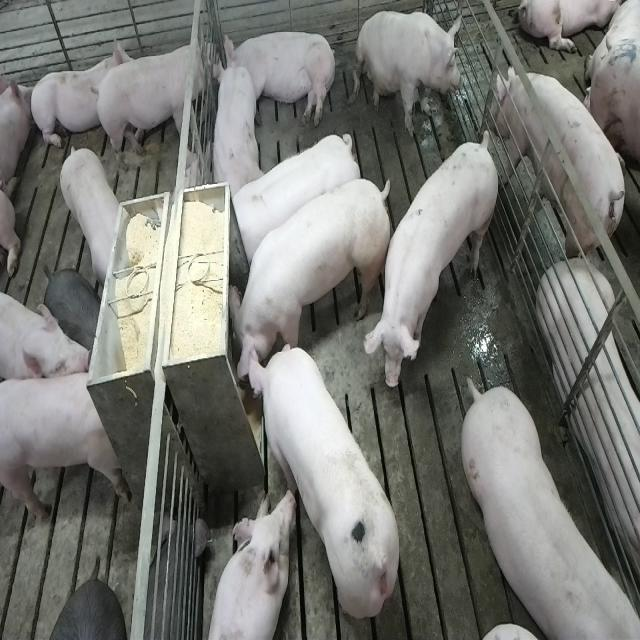Feeding: (244, 339, 402, 622), (222, 174, 390, 395)
Lateral_lying: (220, 28, 338, 128)
Sitting: (354, 7, 462, 137)
Standing: (464, 381, 640, 639), (367, 132, 503, 396), (494, 62, 632, 266), (2, 370, 127, 523), (229, 127, 361, 264), (93, 30, 217, 172), (56, 142, 125, 288), (0, 287, 91, 382), (42, 268, 104, 352)
Sternal_lying: (539, 260, 640, 612), (204, 486, 294, 640), (29, 33, 126, 155), (207, 49, 261, 200)
